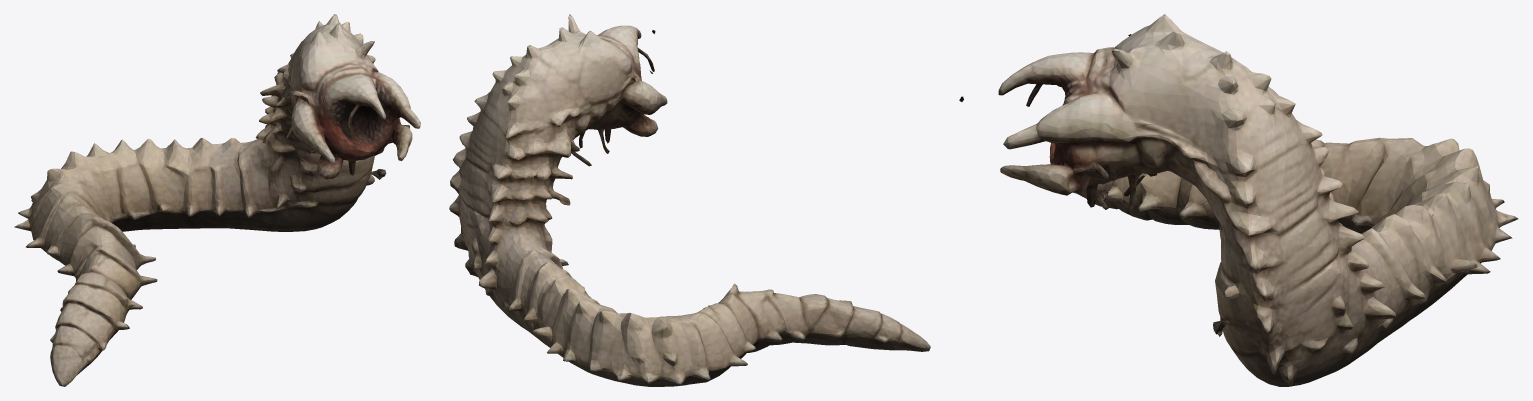
Rendered from ver-geant.glb.
The picture shows the model from 3 angles, left to right: view 1: azimuth 30°, elevation 25°; view 2: azimuth 150°, elevation 25°; view 3: azimuth 270°, elevation 25°; orthographic projection. The views are drawn at different scales.
Visible parts, largest first — view 1: world; view 2: world; view 3: world.
Boxes of the visible parts, x1,y1,x2,y2 form: world: (14,14,420,386); world: (449,14,930,386); world: (959,14,1518,386).
Size of the model in its own units: 1 by 0.6328 by 0.8419.
Materials: 1 (1 with a texture image).
